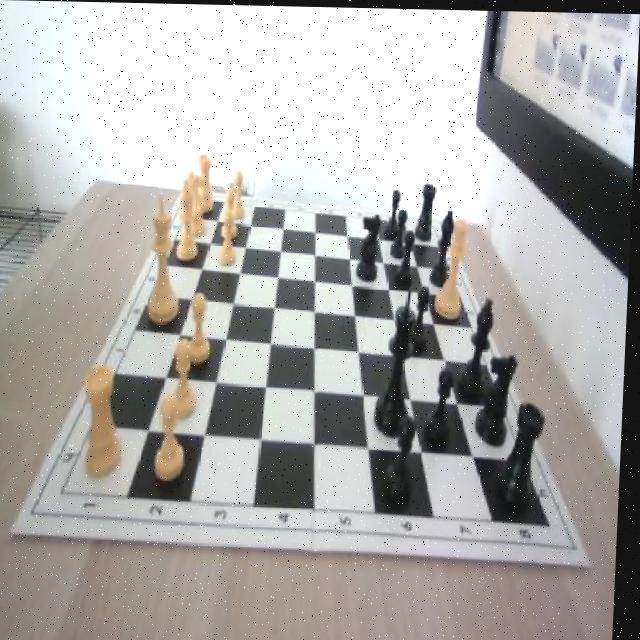bishop: (462, 296, 498, 395), (434, 205, 458, 282)
black-bishop: (376, 295, 421, 433)
black-king: (477, 352, 522, 444), (357, 211, 384, 280)
black-knight: (389, 416, 422, 504), (428, 361, 456, 447), (408, 281, 433, 352), (398, 230, 417, 286), (386, 189, 404, 240), (393, 207, 411, 256)
black-queen: (501, 400, 548, 514), (416, 181, 437, 239)
black-rook: (179, 179, 203, 257)
white-bishop: (149, 191, 184, 320)
white-king: (184, 168, 210, 238)
white-knight: (156, 394, 192, 484), (175, 339, 207, 422), (188, 290, 216, 362), (220, 209, 241, 265), (224, 186, 240, 239), (233, 167, 247, 217)
white-pawn: (435, 215, 470, 317)
white-queen: (83, 364, 128, 478), (197, 153, 218, 213)
